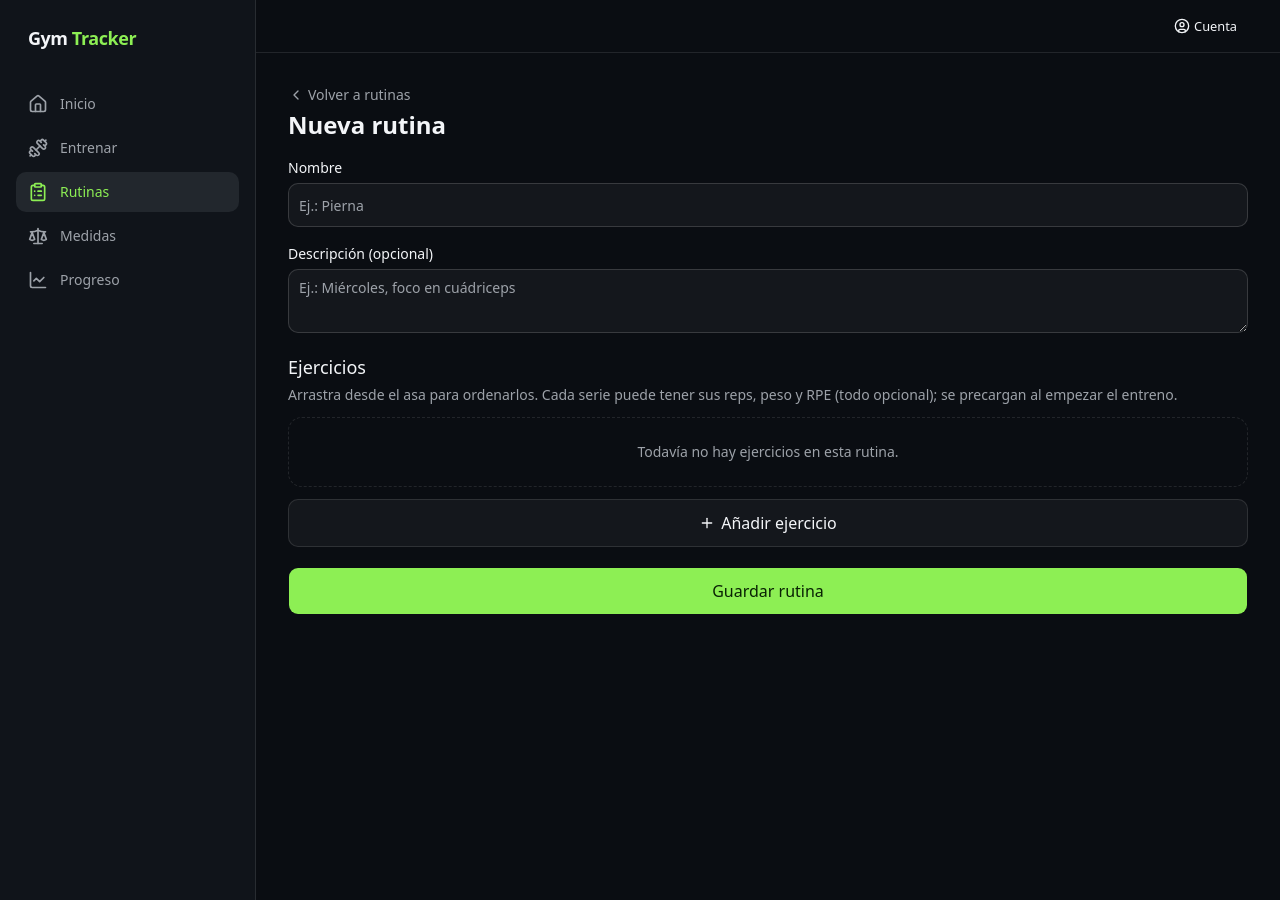
Test case: Routines › validates the form and explains duplicate names
Click the button "Guardar rutina" at (768, 591), box [288,567,1248,615]
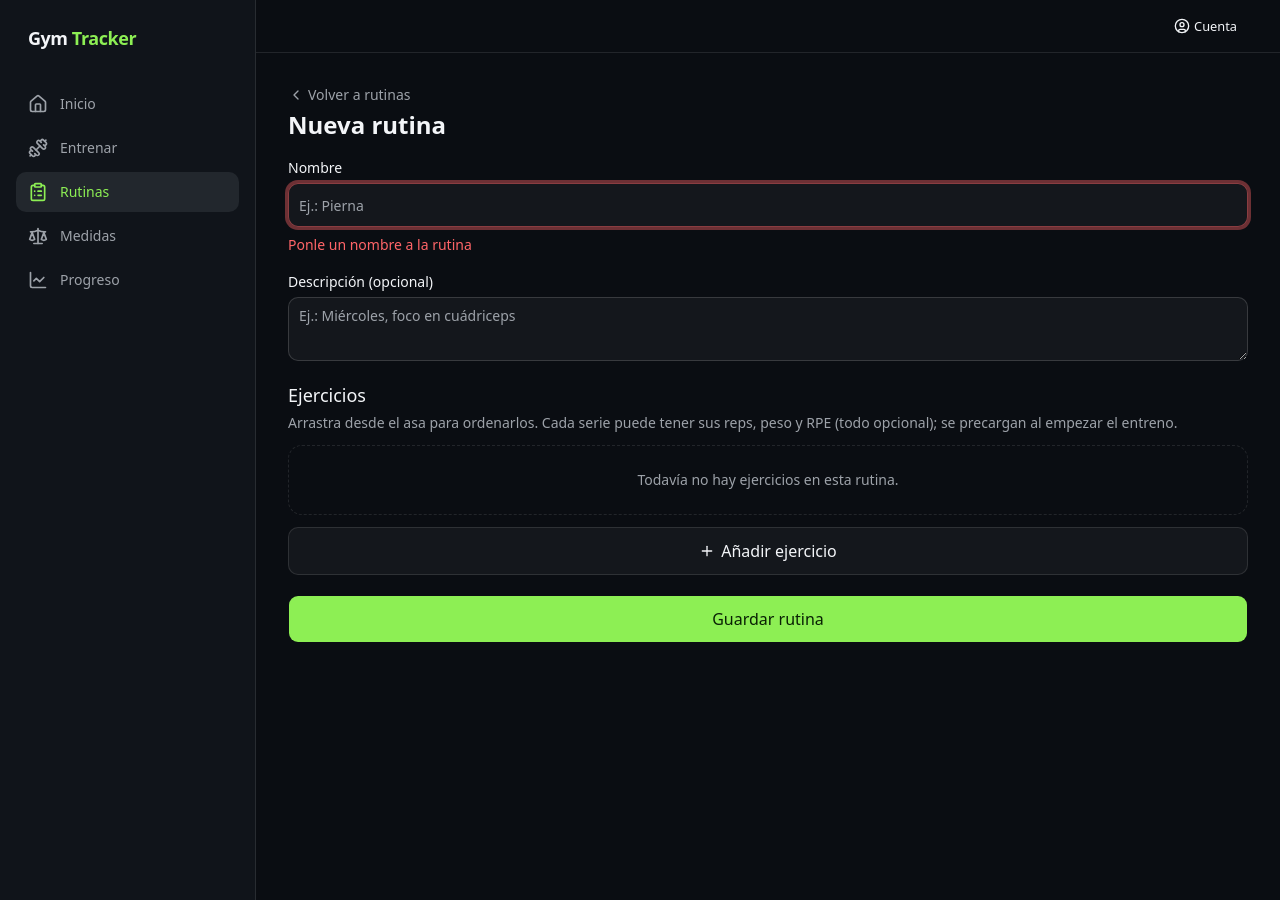
Expected: the text "Ponle un nombre a la rutina" is shown, [288,235,472,254]
Type "Pierna" into the field labelled "Nombre" at (768, 205), box [288,183,1248,227]
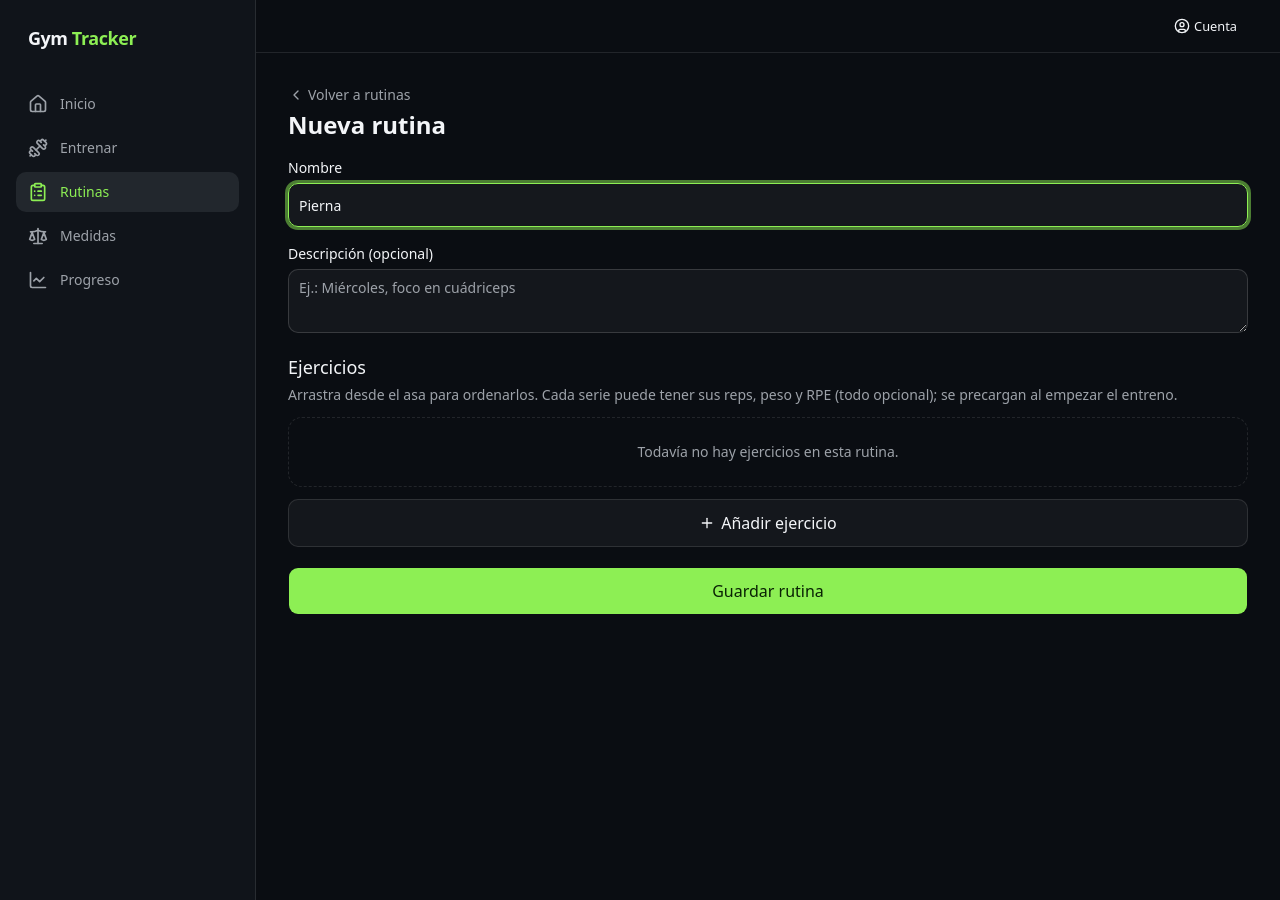
Click the button "Guardar rutina" at (768, 591), box [288,567,1248,615]
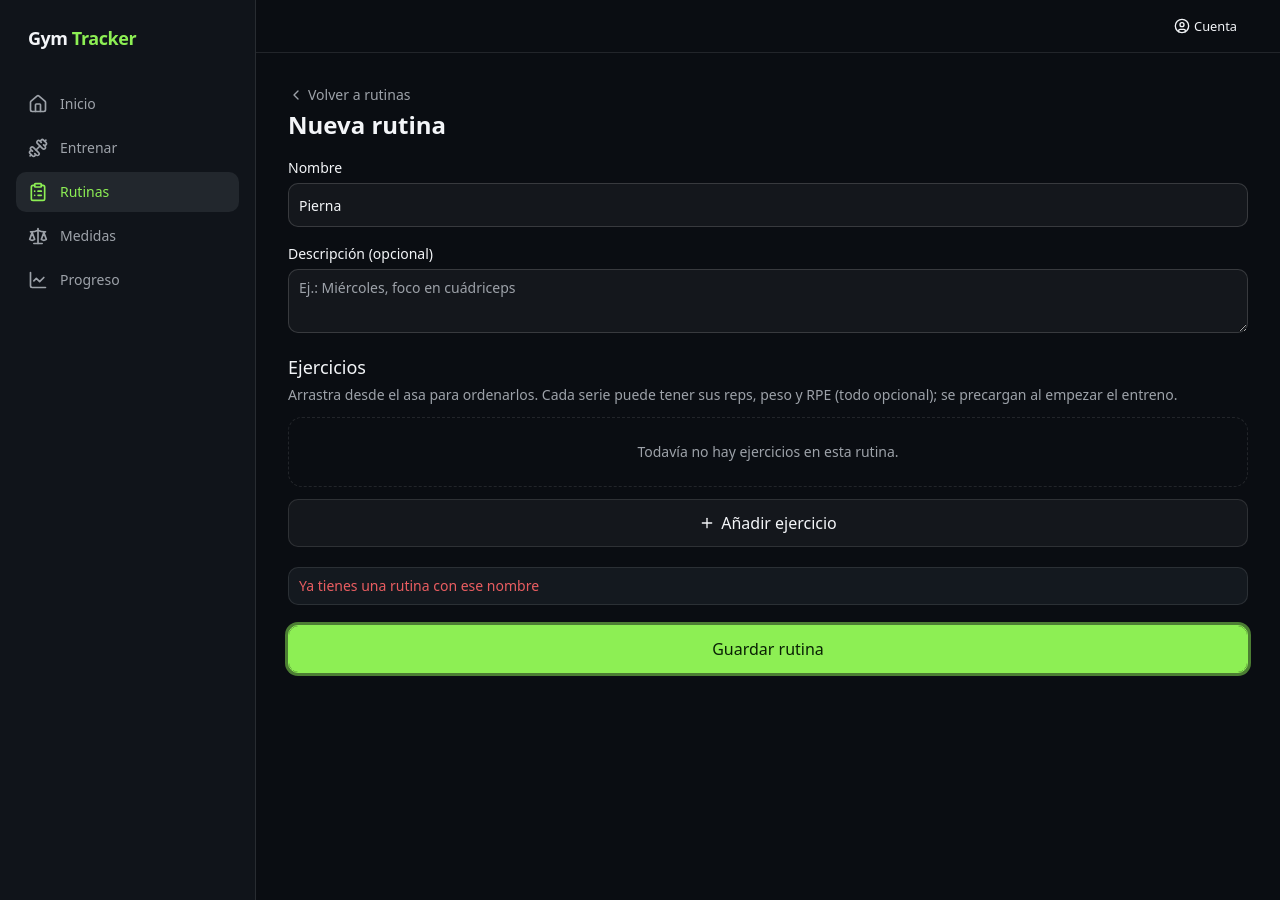
Expected: the text "Ya tienes una rutina con ese nombre" is shown, [299,576,539,595]
